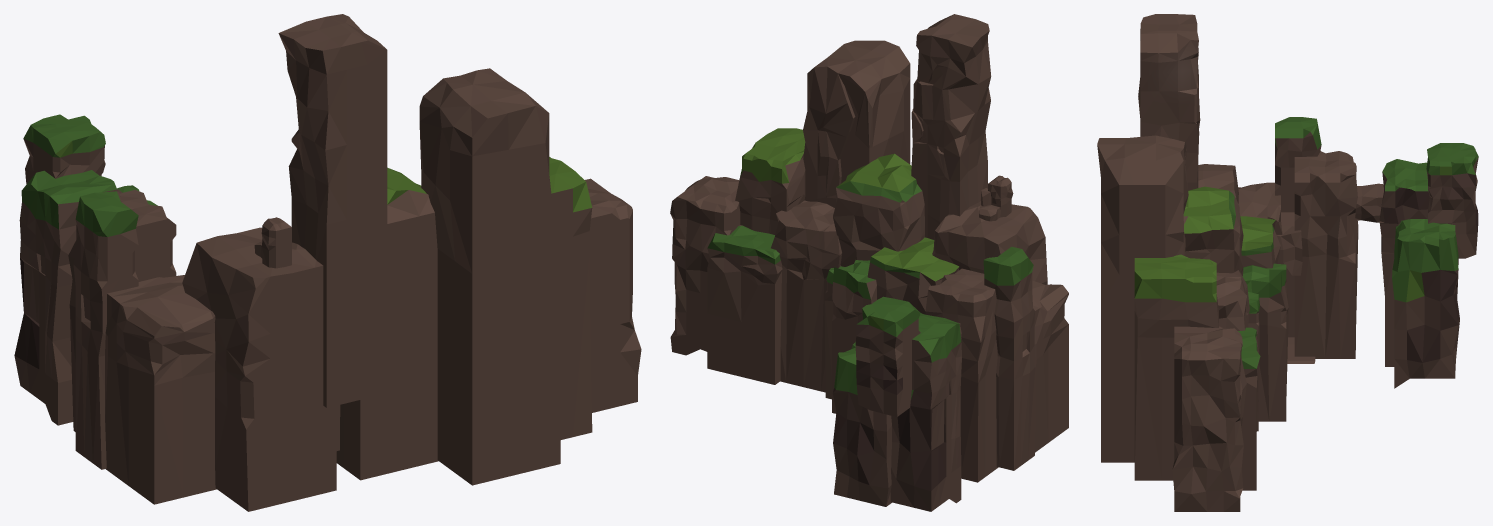
File: falaisestart.obj
3 views of the same model, side by side, from view 1: azimuth 30°, elevation 25°; view 2: azimuth 150°, elevation 25°; view 3: azimuth 270°, elevation 25° (orthographic). The views are drawn at different scales.
Visible parts, largest first — view 1: Cliff-1Main; view 2: Cliff-1Main; view 3: Cliff-1Main.
Part boxes in pixels (<box>): Cliff-1Main: <box>14,14,641,511</box>; Cliff-1Main: <box>670,14,1068,511</box>; Cliff-1Main: <box>1097,14,1478,511</box>.
Bounding box in the file's own units: 96.61 × 88.11 × 81.66.
1 material, 1 textured.
